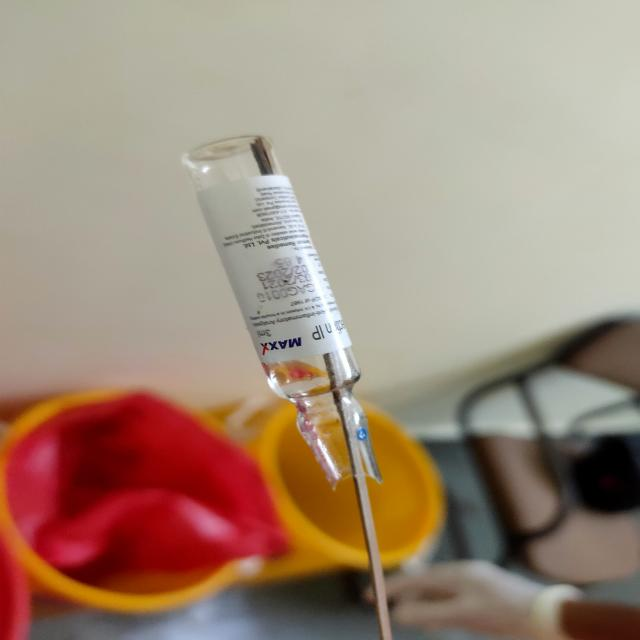B3: (182, 118, 395, 485)
